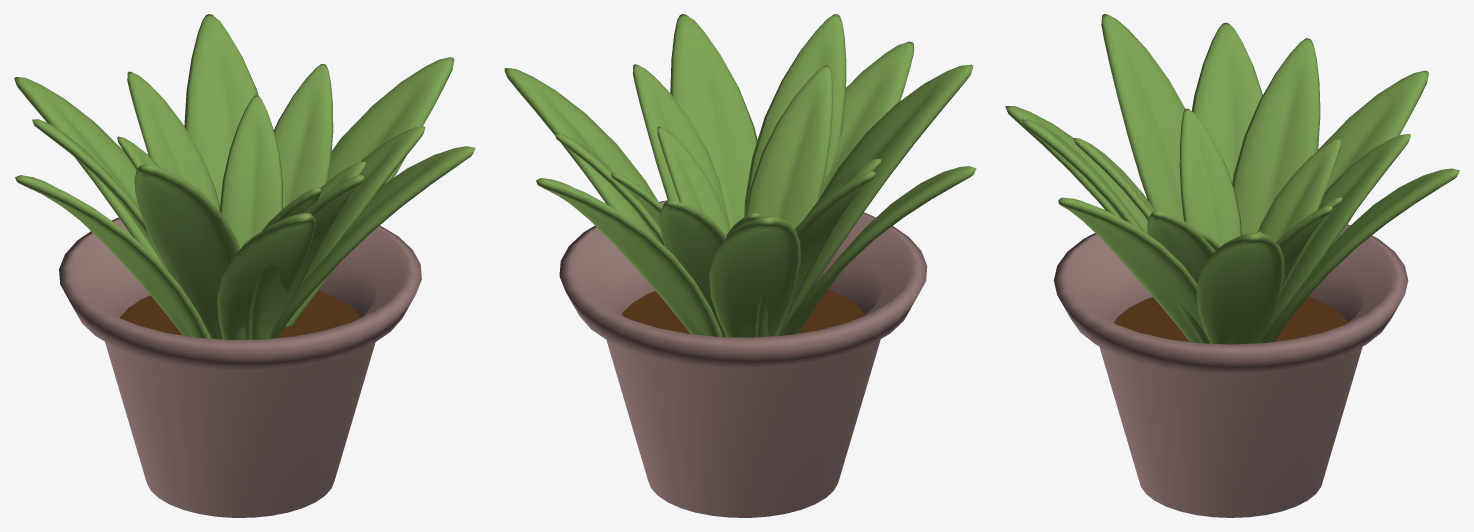
File: plant_pot.fbx
3 renders of one model, left to right at view 1: azimuth 30°, elevation 25°; view 2: azimuth 150°, elevation 25°; view 3: azimuth 270°, elevation 25°, orthographic. The views are drawn at different scales.
Visible parts, largest first — view 1: Vert, Plane.006, Plane.002, Plane.016, Plane.003, Plane.009, Plane.005, Plane, Plane.004, Plane.001, Plane.010, Plane.007 (+5 smaller); view 2: Vert, Plane.004, Plane.014, Plane.001, Plane.006, Plane.002, Plane.003, Plane.007, Plane.005, Plane.008, Plane, Plane.010 (+5 smaller); view 3: Vert, Plane.011, Plane.006, Plane.003, Plane, Plane.004, Plane.013, Plane.010, Plane.002, Plane.001, Plane.012, Plane.008 (+4 smaller).
Part boxes in pixels (x1,y1,x2,y2): Vert: [59, 217, 421, 517]; Plane.006: [134, 164, 245, 339]; Plane.002: [184, 14, 258, 206]; Plane.016: [219, 95, 282, 248]; Plane.003: [285, 57, 454, 326]; Plane.009: [274, 64, 333, 208]; Plane.005: [217, 213, 315, 339]; Plane: [15, 175, 211, 338]; Plane.004: [270, 146, 475, 338]; Plane.001: [14, 77, 162, 264]; Plane.010: [127, 71, 219, 210]; Plane.007: [249, 175, 364, 339]; Vert: [559, 200, 927, 517]; Plane.004: [670, 14, 757, 229]; Plane.014: [744, 65, 832, 228]; Plane.001: [709, 216, 800, 337]; Plane.006: [780, 64, 973, 332]; Plane.002: [536, 178, 722, 337]; Plane.003: [504, 68, 658, 235]; Plane.007: [744, 14, 846, 216]; Plane.005: [819, 41, 914, 198]; Plane.008: [632, 64, 728, 222]; Plane: [780, 166, 976, 335]; Plane.010: [659, 200, 726, 337]; Vert: [1054, 224, 1408, 517]; Plane.011: [1232, 38, 1320, 234]; Plane.006: [1101, 14, 1185, 220]; Plane.003: [1196, 232, 1284, 344]; Plane: [1191, 22, 1262, 182]; Plane.004: [1058, 197, 1205, 343]; Plane.013: [1179, 108, 1241, 245]; Plane.010: [1263, 134, 1410, 338]; Plane.002: [1261, 168, 1459, 343]; Plane.001: [1318, 70, 1428, 244]; Plane.012: [1258, 138, 1341, 242]; Plane.008: [1147, 211, 1215, 343].
Bounding box in the file's own units: 1358 × 1155 × 1216.
